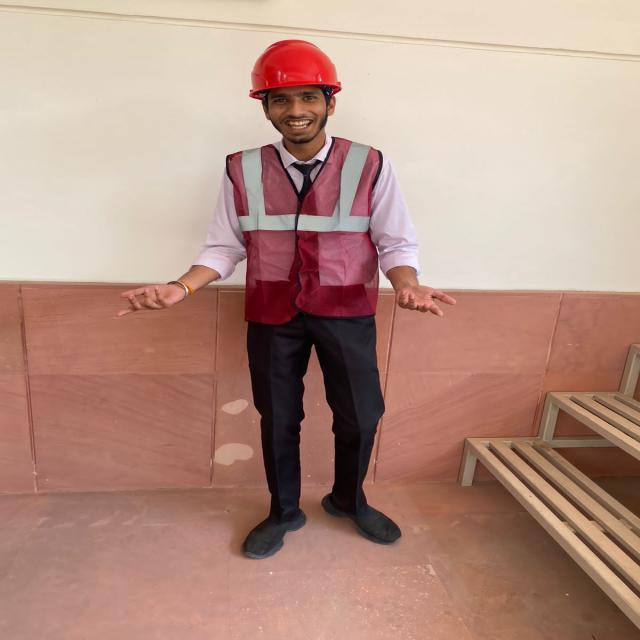safe: (226, 40, 402, 559)
